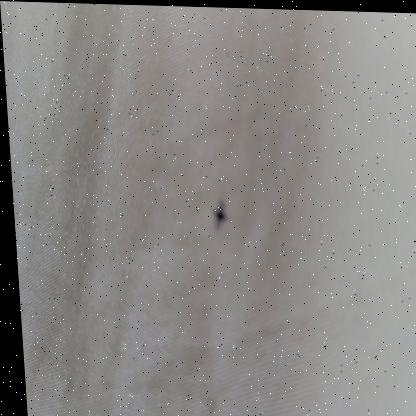spot: (197, 190, 236, 247)
